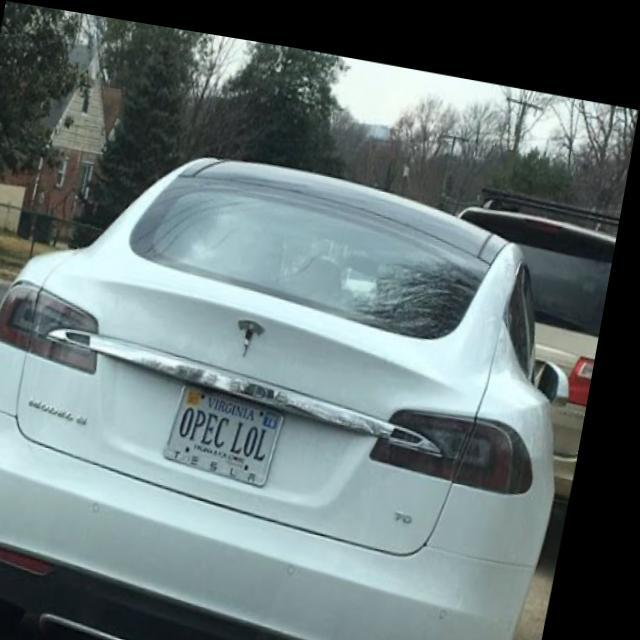license_plate: (182, 371, 292, 472)
